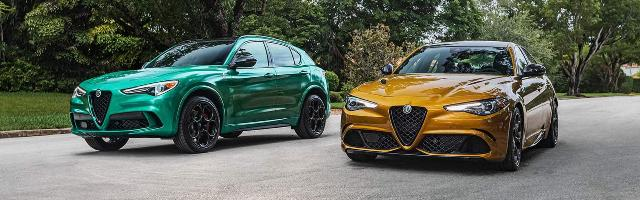alpha-romeo: (69, 34, 331, 154), (340, 40, 560, 174)
